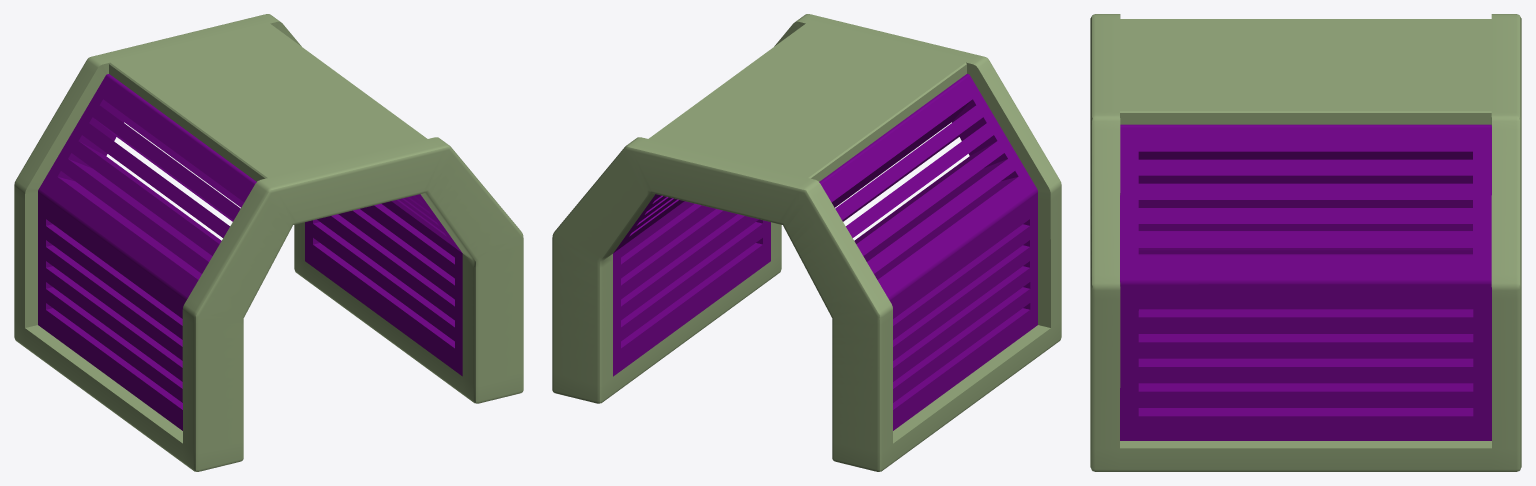
The model's file is catridgeNew.fbx.
3 renders of one model, left to right at view 1: azimuth 30°, elevation 25°; view 2: azimuth 150°, elevation 25°; view 3: azimuth 270°, elevation 25°, orthographic. The views are drawn at different scales.
Parts seen in each view (by area): view 1: cartridge2_3; view 2: cartridge2_3; view 3: cartridge2_3.
Boxes of the visible parts, box(x1,y1,x2,y2) form: cartridge2_3: box(14, 14, 523, 471); cartridge2_3: box(552, 14, 1061, 471); cartridge2_3: box(1090, 14, 1521, 471).
Size of the model in its own units: 0.4217 by 0.3253 by 0.4048.
